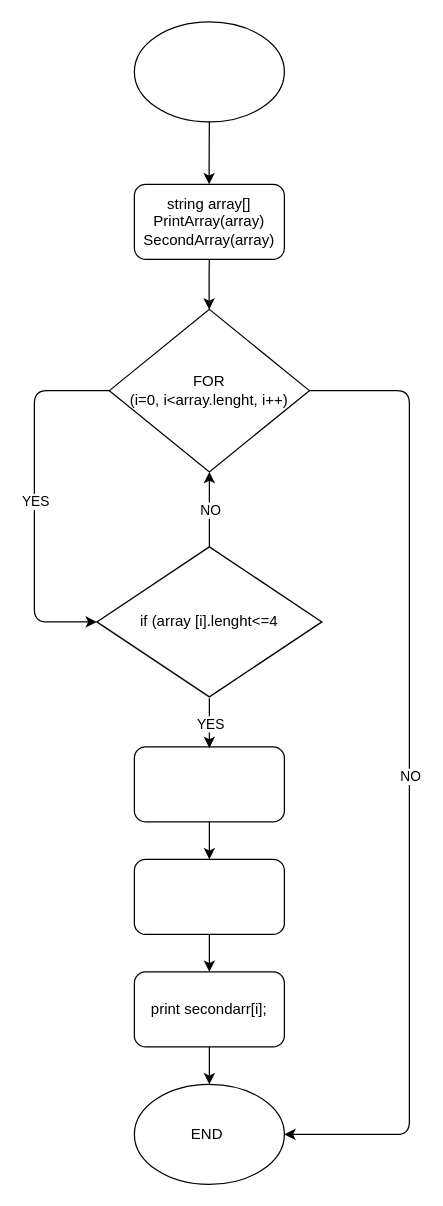
Some shapes in this 443 by 1206 pixel diagram are drawn without their labels. The box of each missing label's shape, as (x1, y1, x2, y2) in pixels:
secondarr[i] = array[i];: (133, 858, 284, 934)
Start: (133, 21, 284, 122)
string new array "secondarr": (133, 746, 284, 822)
